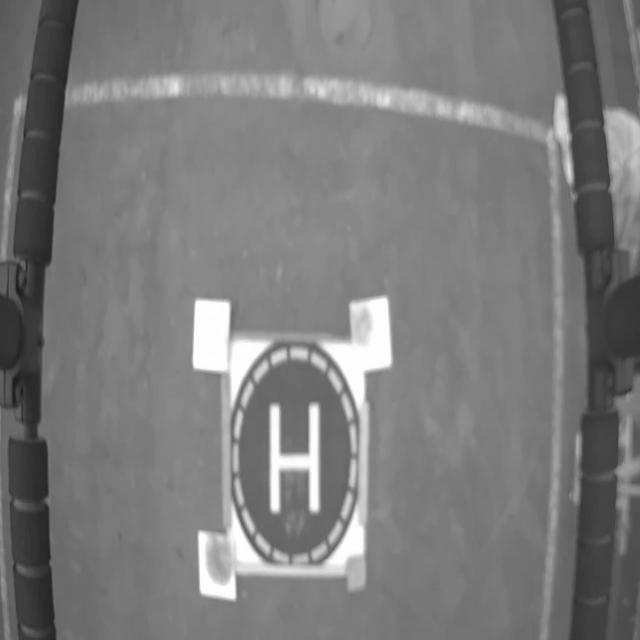Helipad: (269, 402, 319, 512)
